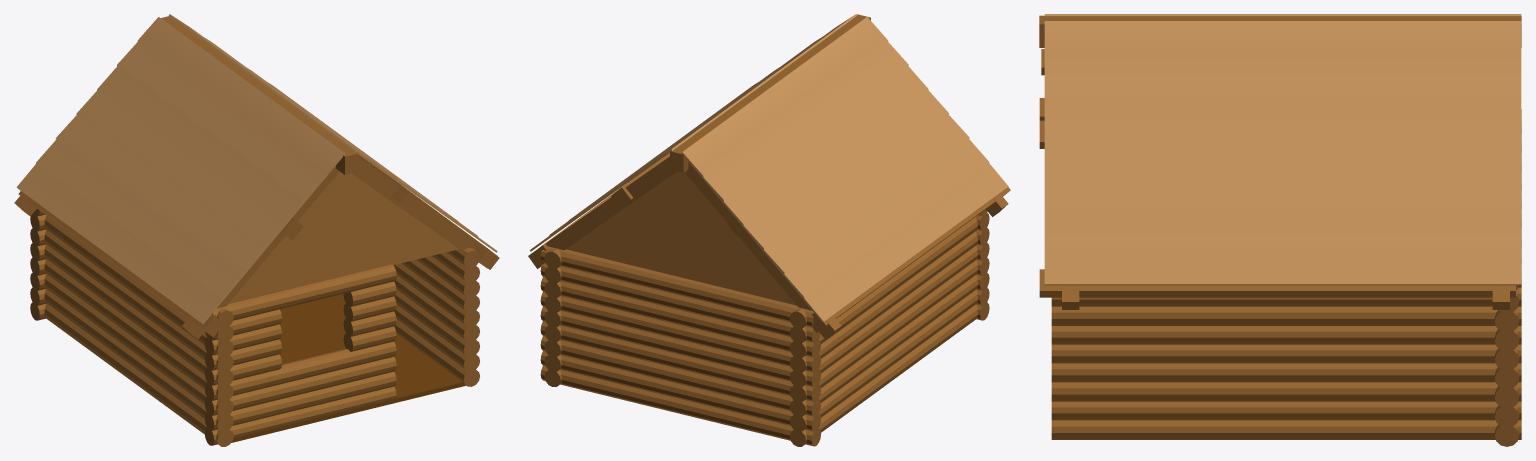
File: Haus_Try.fbx
3 renders of one model, left to right at view 1: azimuth 30°, elevation 25°; view 2: azimuth 150°, elevation 25°; view 3: azimuth 270°, elevation 25°, orthographic. The views are drawn at different scales.
Visible parts, largest first — view 1: pCylinder36, Dach, Dachstuhl, Dachbalken; view 2: pCylinder36, Dach, Dachstuhl2, Dachbalken; view 3: Dach, pCylinder36, Dachbalken.
Boxes of the visible parts, x1,y1,x2,y2 form: pCylinder36: (30, 209, 479, 446); Dach: (16, 14, 497, 324); Dachstuhl: (182, 158, 496, 339); Dachbalken: (18, 16, 499, 337); pCylinder36: (540, 209, 989, 446); Dach: (530, 14, 1008, 322); Dachstuhl2: (528, 156, 840, 339); Dachbalken: (532, 14, 1010, 332); Dach: (1044, 14, 1521, 285); pCylinder36: (1051, 109, 1521, 446); Dachbalken: (1039, 15, 1521, 297).
Bounding box in the file's own units: 501 × 416 × 530.
